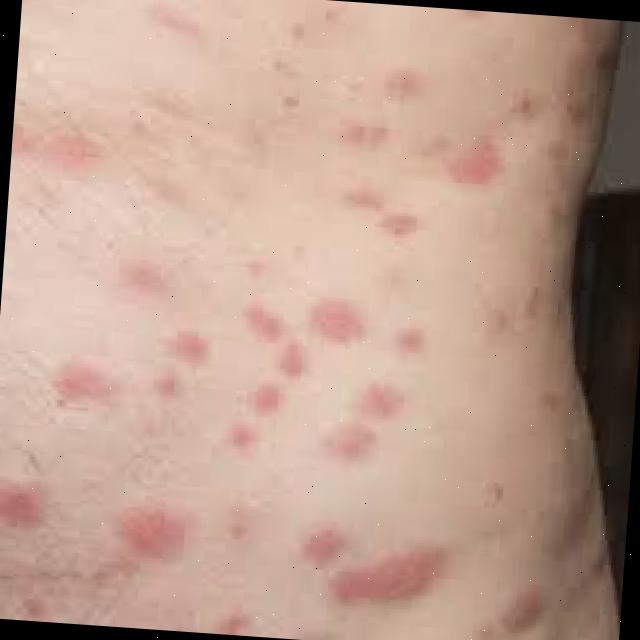kan emici bocekler: (326, 528, 448, 617), (110, 500, 194, 572), (151, 324, 216, 408), (301, 292, 366, 356), (442, 132, 509, 193), (44, 358, 112, 415), (1, 472, 53, 539), (320, 419, 382, 470), (353, 378, 409, 425), (216, 423, 266, 469), (338, 121, 396, 159), (382, 206, 429, 252), (380, 66, 424, 114), (303, 526, 348, 566), (388, 326, 434, 364), (345, 179, 388, 219), (248, 381, 288, 422)
